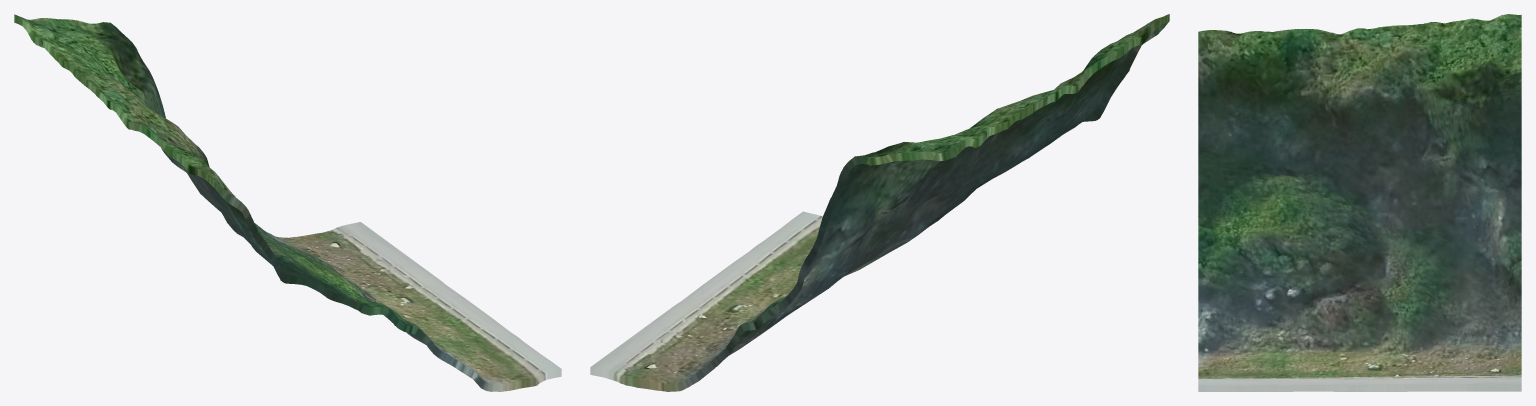
The model's file is z20-167557-405171-h0-yup-uvflip-v3-world.glb.
3 renders of one model, left to right at view 1: azimuth 30°, elevation 25°; view 2: azimuth 150°, elevation 25°; view 3: azimuth 270°, elevation 25°, orthographic. The views are drawn at different scales.
Bounding box in the file's own units: 30.16 × 25.28 × 30.32.
1 material, 1 textured.
